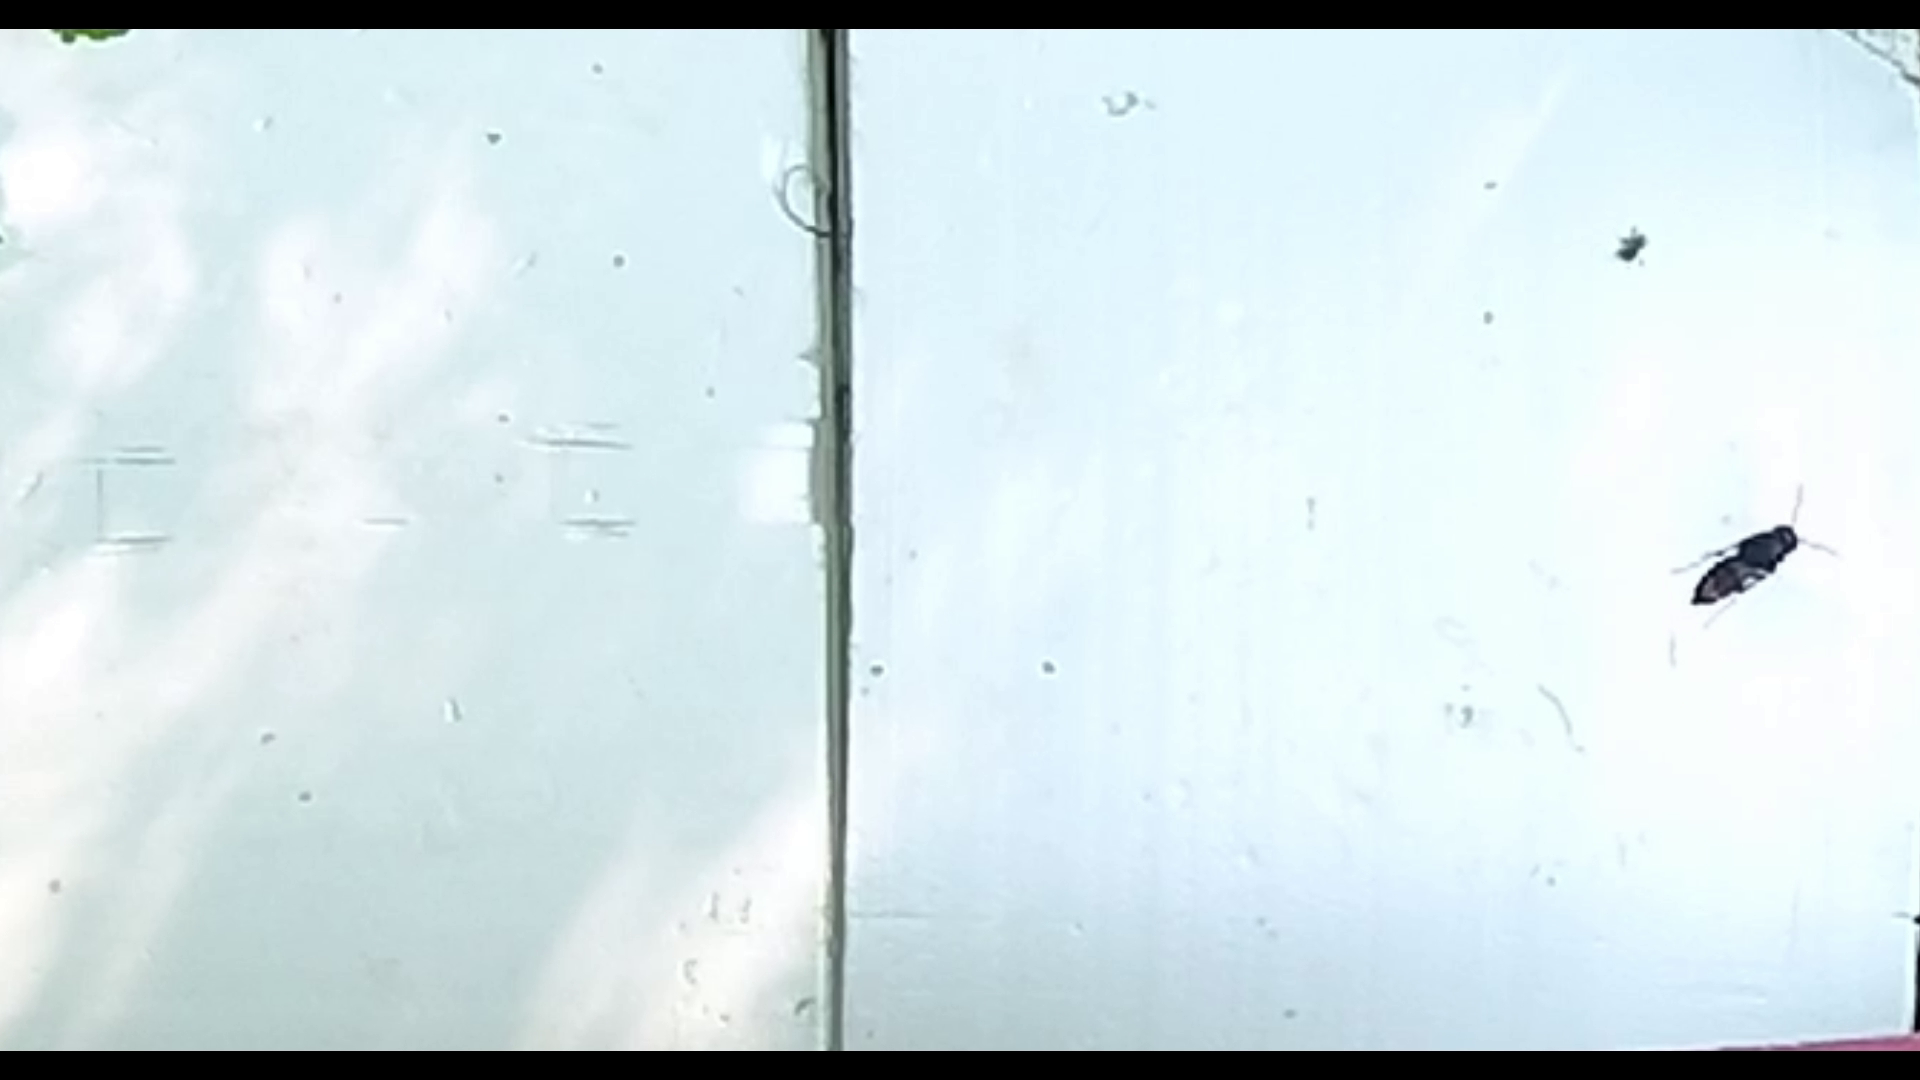Asian_hornets: (1660, 467, 1836, 629)
